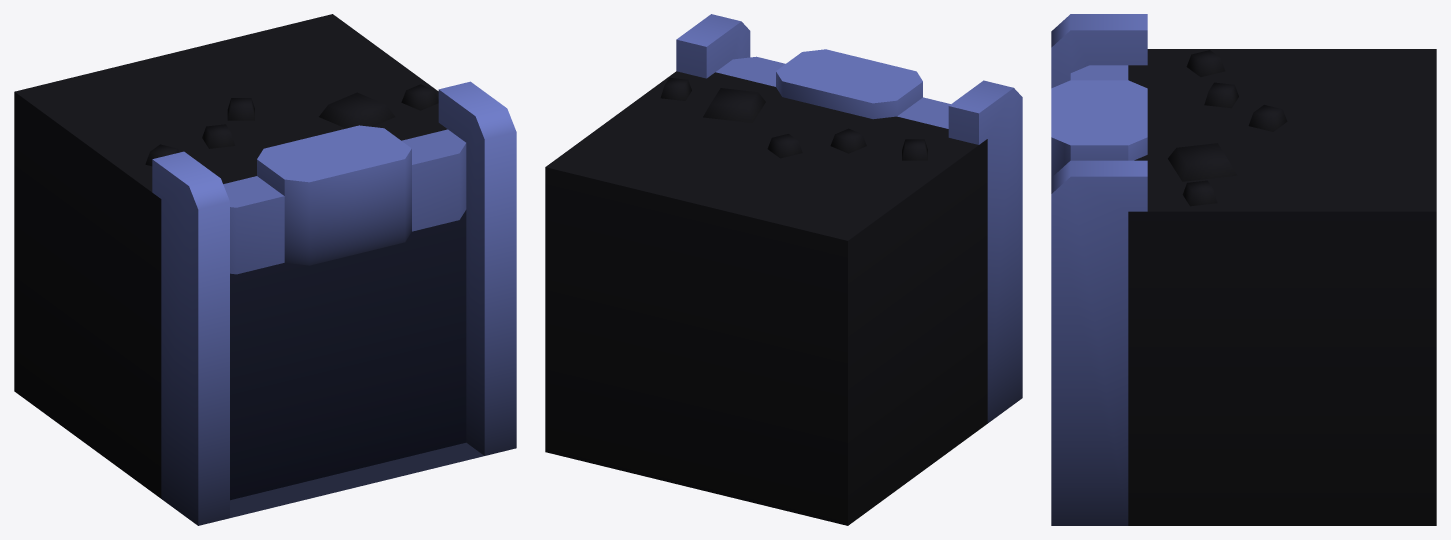
Rendered from wall-half.fbx.
3 renders of one model, left to right at view 1: azimuth 30°, elevation 25°; view 2: azimuth 150°, elevation 25°; view 3: azimuth 270°, elevation 25°, orthographic. The views are drawn at different scales.
Visible parts, largest first — view 1: wall-half; view 2: wall-half; view 3: wall-half.
Part boxes in pixels (bbox=[...]): wall-half: bbox=[14, 14, 516, 525]; wall-half: bbox=[545, 14, 1022, 525]; wall-half: bbox=[1051, 14, 1436, 525].
Size of the model in its own units: 10 by 10 by 10.
